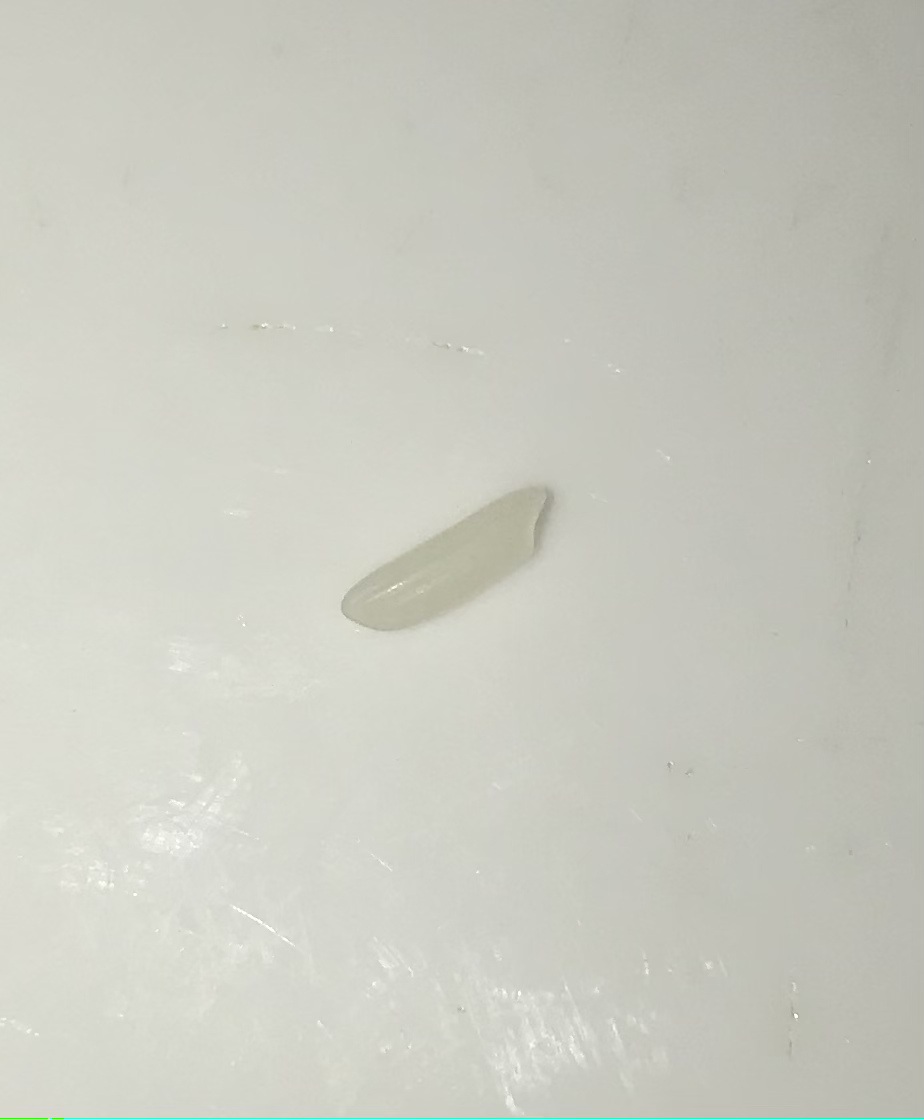Gao Ngoc Troi: (356, 474, 564, 664)
